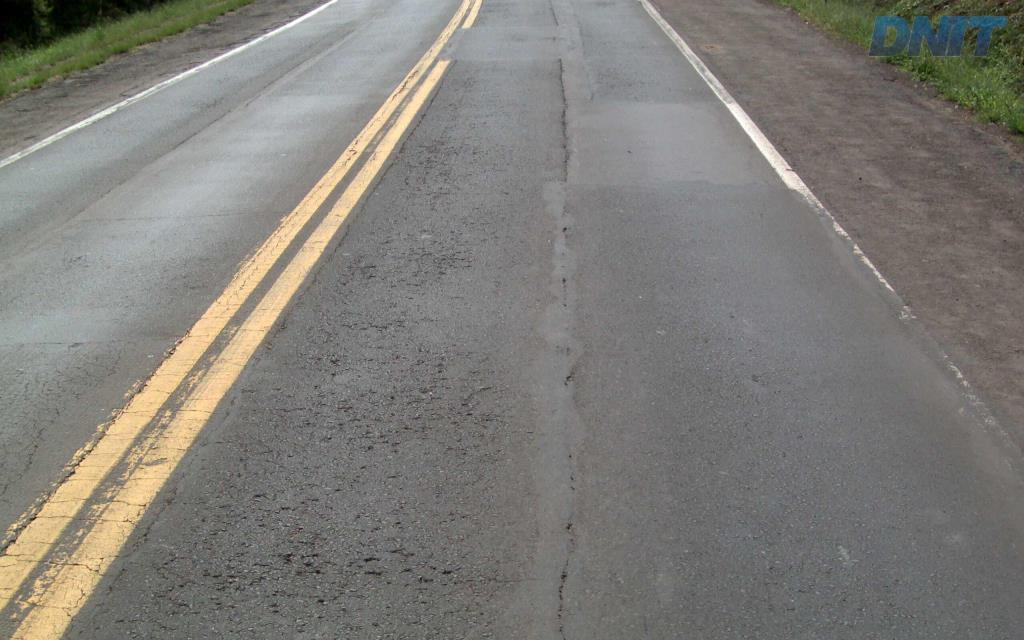crack: (149, 526, 337, 620)
